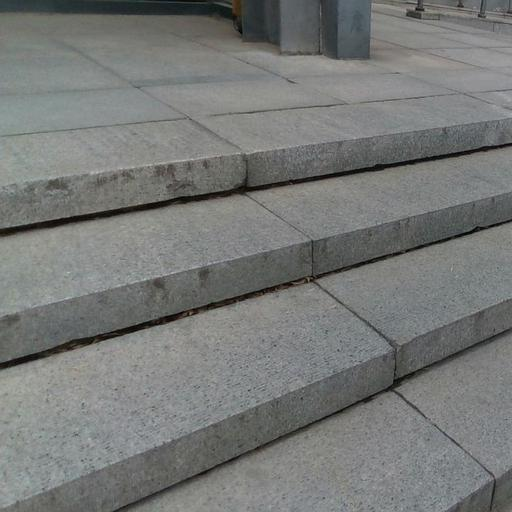stairs: (0, 95, 511, 511)
